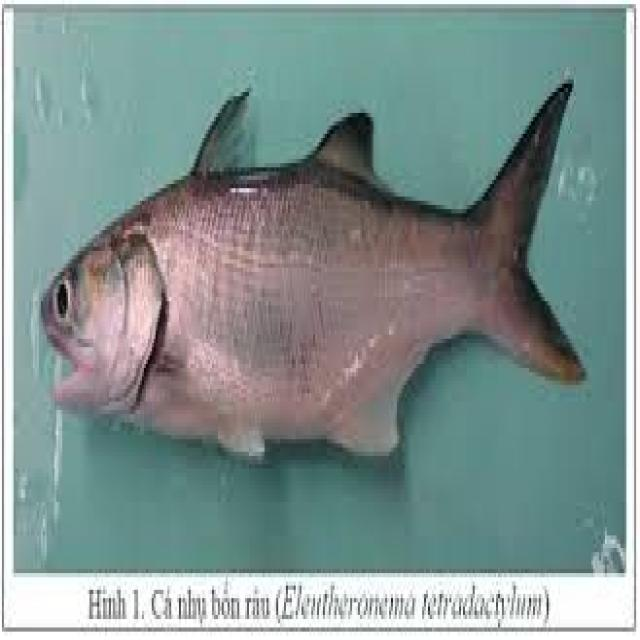Fourfinger-Threadfin: (19, 35, 616, 529)
